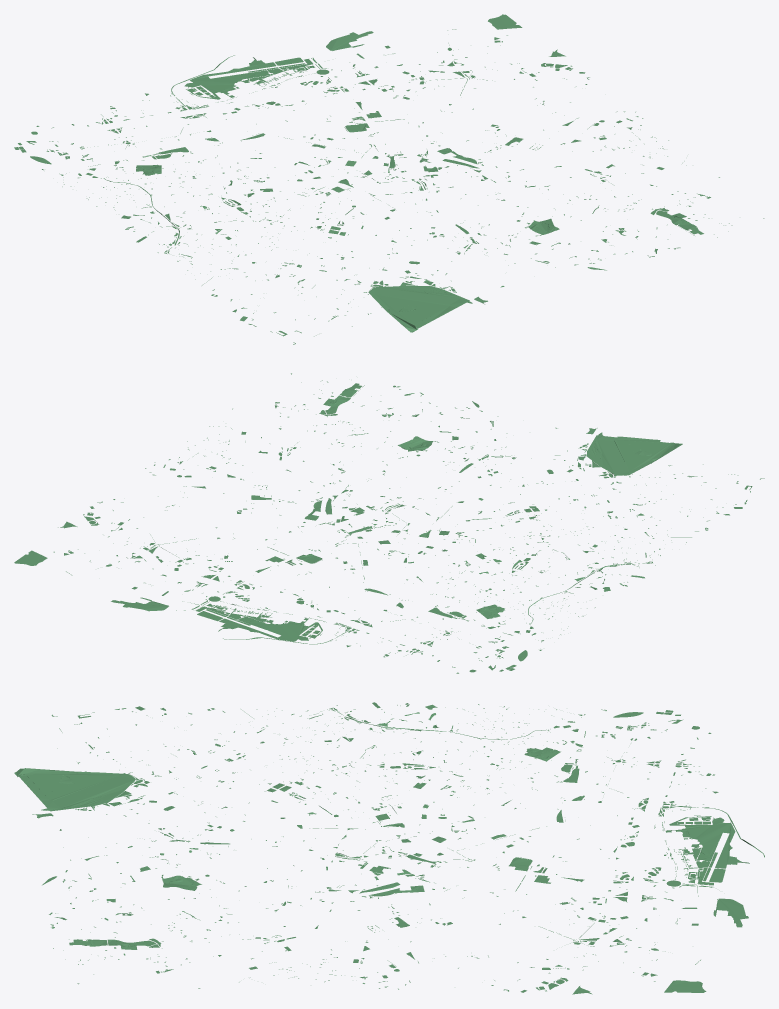
File: green.glb
3 renders of one model, top to bottom at view 1: azimuth 30°, elevation 25°; view 2: azimuth 150°, elevation 25°; view 3: azimuth 270°, elevation 25°, orthographic. The views are drawn at different scales.
Parts seen in each view (by area): view 1: green; view 2: green; view 3: green.
Part boxes in pixels (bbox=[...]): green: bbox=[14, 14, 764, 344]; green: bbox=[14, 373, 764, 673]; green: bbox=[14, 702, 764, 994].
Size of the model in its own units: 9251 by 128 by 10170.
